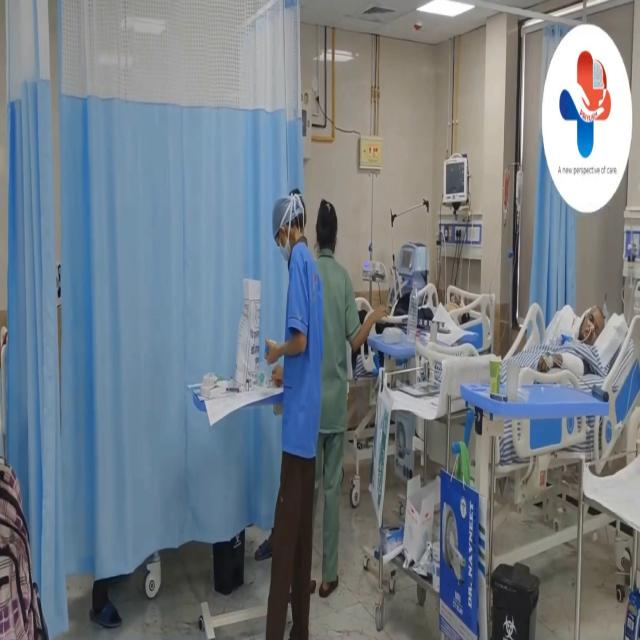Movement-NO: (530, 283, 616, 403)
